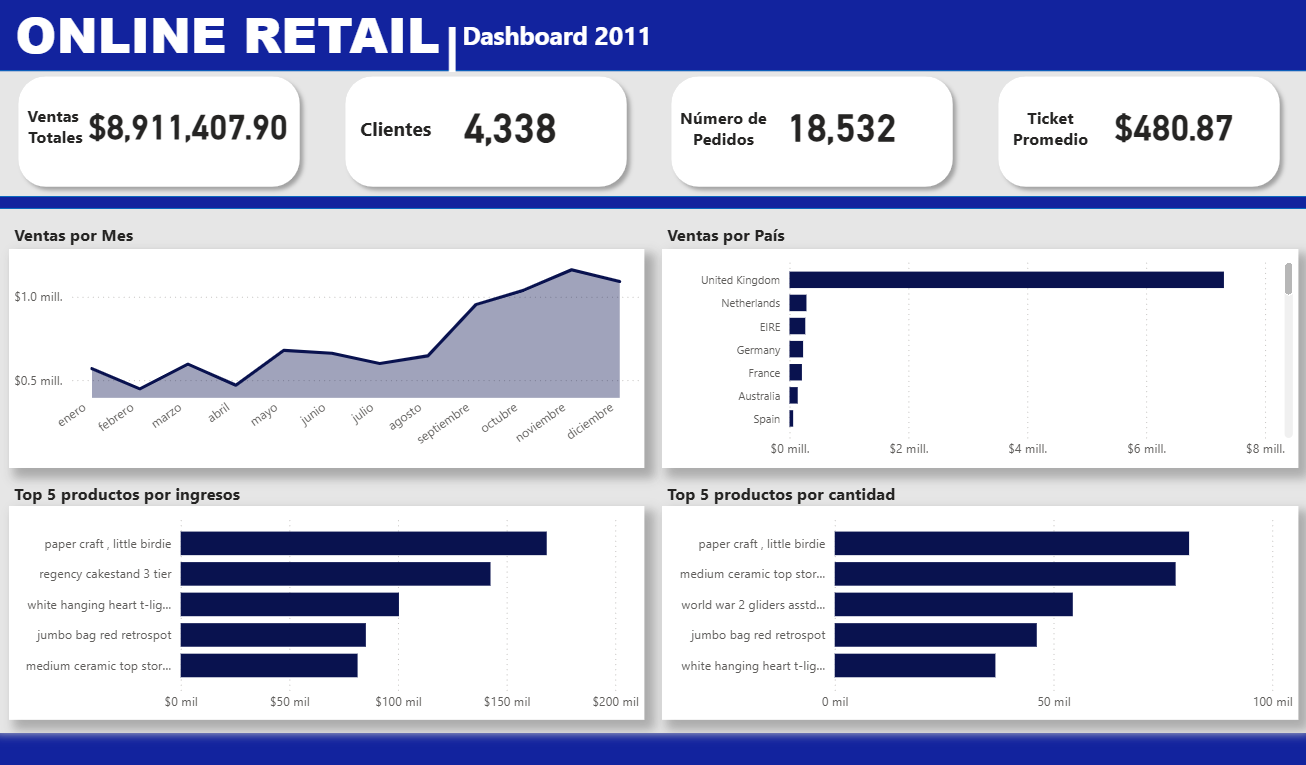

This screenshot's page, from the dashboard's own definition file:
{"tool":"powerbi","page":{"name":"Página 1","canvas":[1280,720],"ordinal":0},"visuals":[{"type":"lineChart","fields":{"Y":["Sum(df__sincal_limpio.Income)"],"Category":["df__sincal_limpio.YearMonth.Variación.Jerarquía de fechas.Mes"]},"box":[0,234.4,1280,250],"z":0},{"type":"card","fields":{"Values":["df__sincal_limpio.Ventas Totales"]},"box":[58.4,30.2,170.2,81.7],"z":1000},{"type":"card","fields":{"Values":["df__sincal_limpio.Ventas Totales"]},"box":[241.2,30.2,214,81.7],"z":2000},{"type":"card","fields":{"Values":["df__sincal_limpio.Número de Pedidos"]},"box":[481.5,30.2,201.3,81.7],"z":3000},{"type":"card","fields":{"Values":["df__sincal_limpio.Productos Vendidos"]},"box":[694.5,30.2,179,81.7],"z":4000},{"type":"card","fields":{"Values":["df__sincal_limpio.Ticket Promedio"]},"box":[891.9,23.3,169.2,95.3],"z":5000},{"type":"card","fields":{"Values":["df__sincal_limpio.Ingreso Por Clientes"]},"box":[0,115,1280,150],"z":6000}]}

Visuals, with their boxes on the page's 1280x720 design canvas (x1, y1, x2, y2). These are canvas units, not pixel positions in the 1306x765 screenshot, which may show the page scaled, cropped or inside an application window:
lineChart - Sum(df__sincal_limpio.Income) x df__sincal_limpio.YearMonth.Variación.Jerarquía de fechas.Mes: pyautogui.locateOnScreen(0, 234, 1280, 484)
card - df__sincal_limpio.Ventas Totales: pyautogui.locateOnScreen(58, 30, 229, 112)
card - df__sincal_limpio.Ventas Totales: pyautogui.locateOnScreen(241, 30, 455, 112)
card - df__sincal_limpio.Número de Pedidos: pyautogui.locateOnScreen(482, 30, 683, 112)
card - df__sincal_limpio.Productos Vendidos: pyautogui.locateOnScreen(694, 30, 874, 112)
card - df__sincal_limpio.Ticket Promedio: pyautogui.locateOnScreen(892, 23, 1061, 119)
card - df__sincal_limpio.Ingreso Por Clientes: pyautogui.locateOnScreen(0, 115, 1280, 265)
